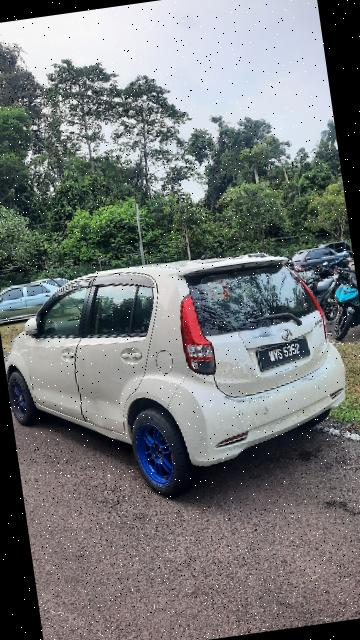License_Plate: (255, 336, 313, 370)
car: (1, 236, 360, 519)
